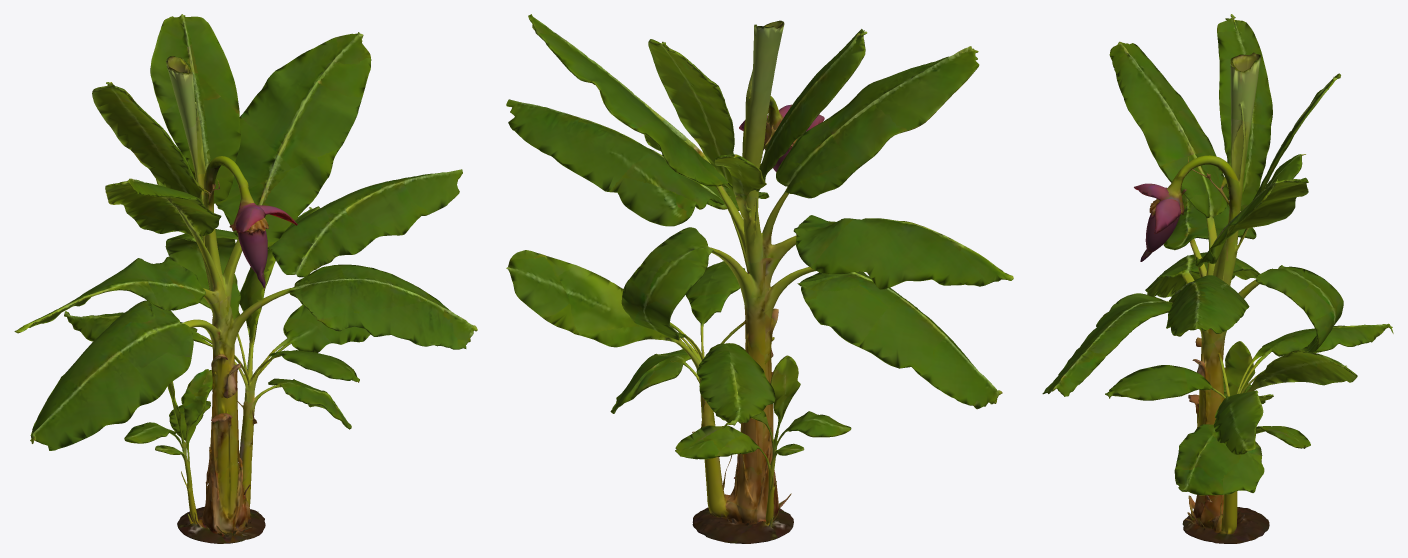
The model's file is BaJiaoShu_1.glb.
3 renders of one model, left to right at view 1: azimuth 30°, elevation 25°; view 2: azimuth 150°, elevation 25°; view 3: azimuth 270°, elevation 25°, orthographic. The views are drawn at different scales.
Parts seen in each view (by area): view 1: tripo_node_c5a6d9b2-173f-42b3-b730-e9a1bd3f4170; view 2: tripo_node_c5a6d9b2-173f-42b3-b730-e9a1bd3f4170; view 3: tripo_node_c5a6d9b2-173f-42b3-b730-e9a1bd3f4170.
Boxes of the visible parts, <box> form: tripo_node_c5a6d9b2-173f-42b3-b730-e9a1bd3f4170: <box>14,14,477,543</box>; tripo_node_c5a6d9b2-173f-42b3-b730-e9a1bd3f4170: <box>506,14,1013,543</box>; tripo_node_c5a6d9b2-173f-42b3-b730-e9a1bd3f4170: <box>1042,14,1393,543</box>.
Bounding box in the file's own units: 0.9981 × 0.9964 × 0.6919.
Materials: 1 (1 with a texture image).
